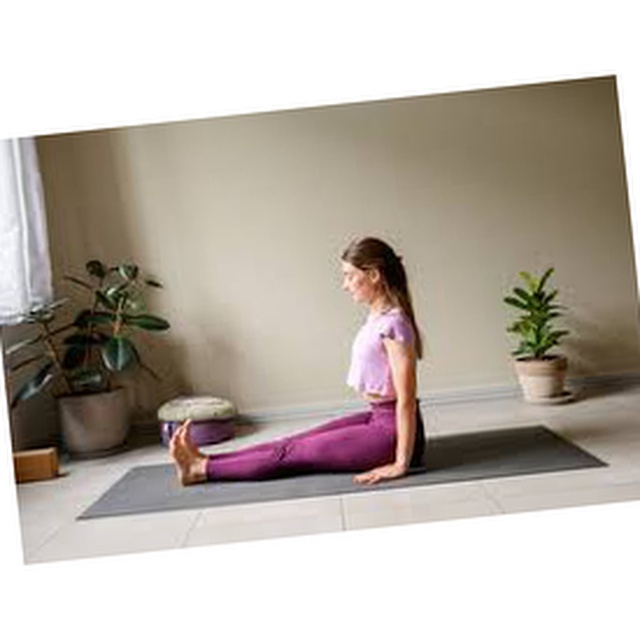Staff_Pose: (167, 236, 427, 487)
